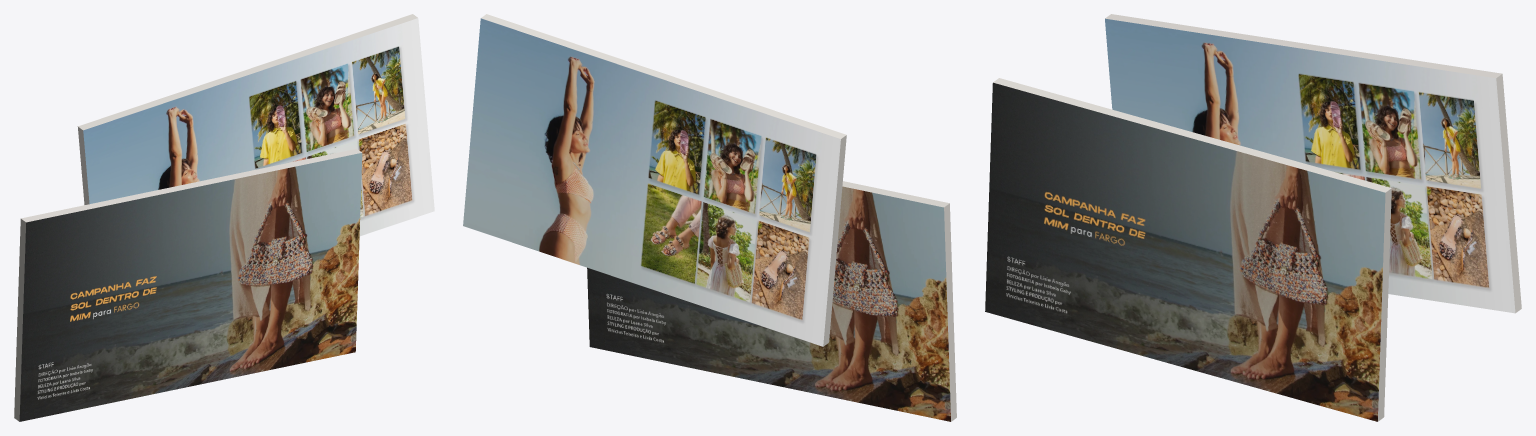
File: fargo-faz-sol.glb
3 renders of one model, left to right at view 1: azimuth 30°, elevation 25°; view 2: azimuth 150°, elevation 25°; view 3: azimuth 330°, elevation 25°, orthographic. The views are drawn at different scales.
Parts seen in each view (by area): view 1: fargo-faz-sol; view 2: fargo-faz-sol; view 3: fargo-faz-sol.
Part boxes in pixels (x1,y1,x2,y2): fargo-faz-sol: [14, 14, 434, 421]; fargo-faz-sol: [463, 14, 956, 421]; fargo-faz-sol: [985, 14, 1521, 421].
Bounding box in the file's own units: 1.29 × 0.8523 × 0.128.
3 materials, 2 textured.
